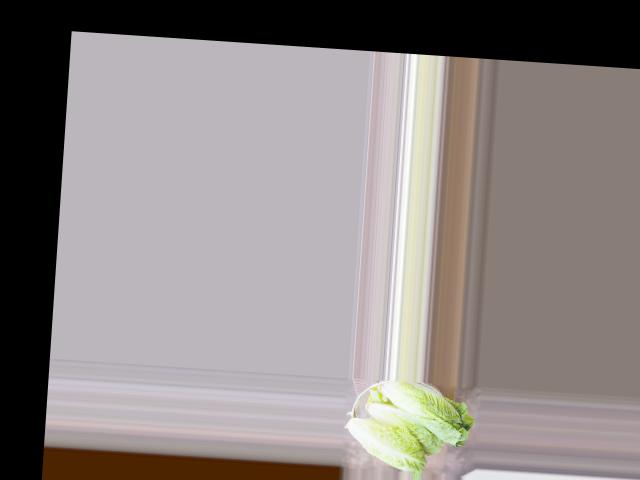lettuce: (367, 378, 472, 448)
